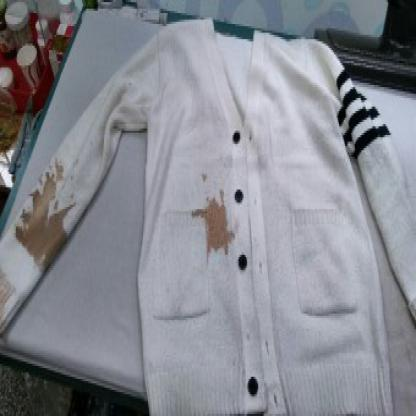coffee: (20, 210, 67, 259), (206, 203, 228, 252)
